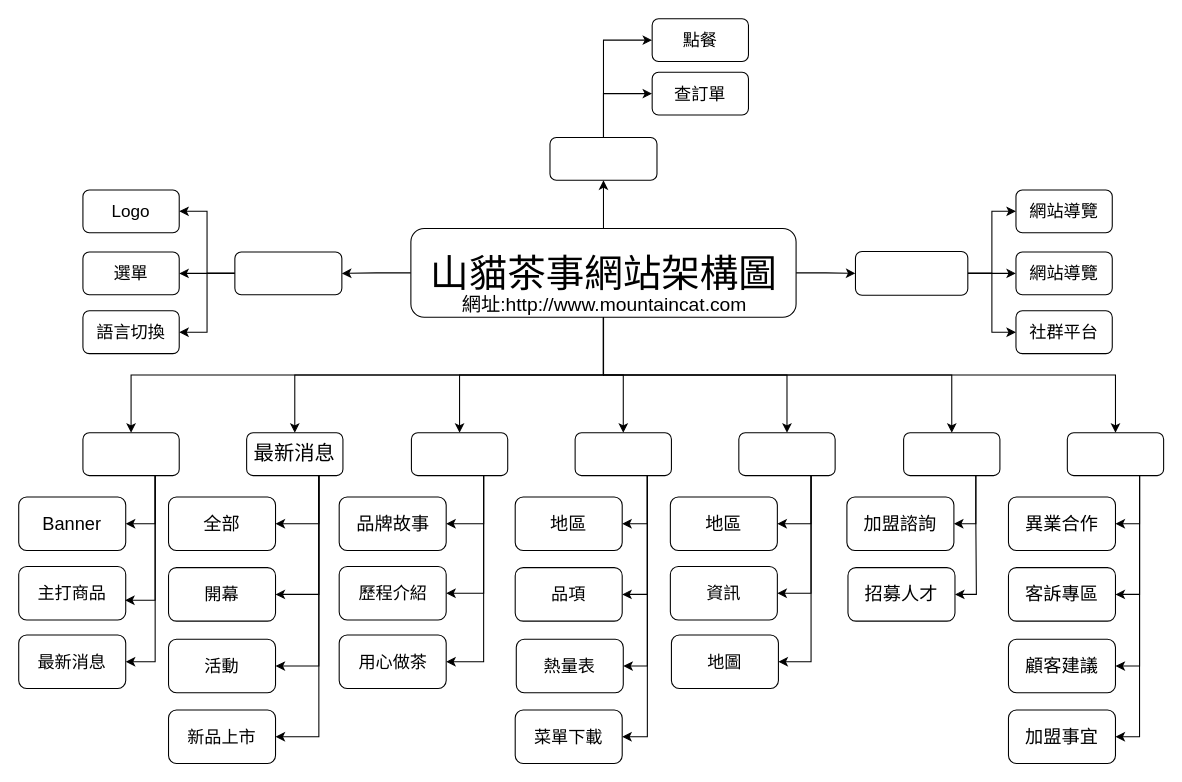
This 1182x782 diagram has some shape labels left out. The centre of each missing label's shape, as x and y in pixels:
"Footer" goes at [911,272].
"Header" goes at [288,273].
"加入我們" goes at [951,454].
"浮動按鈕" goes at [603,158].
"聯絡我們" goes at [1115,454].
"菜單" goes at [622,454].
"門市資訊" goes at [786,454].
"關於我們" goes at [459,454].
"首頁" goes at [130,454].
